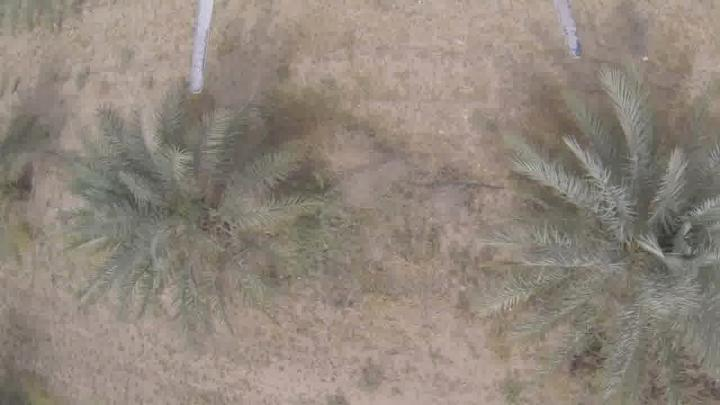Date-Palm-Crown: (548, 123, 720, 350), (94, 106, 246, 322)
